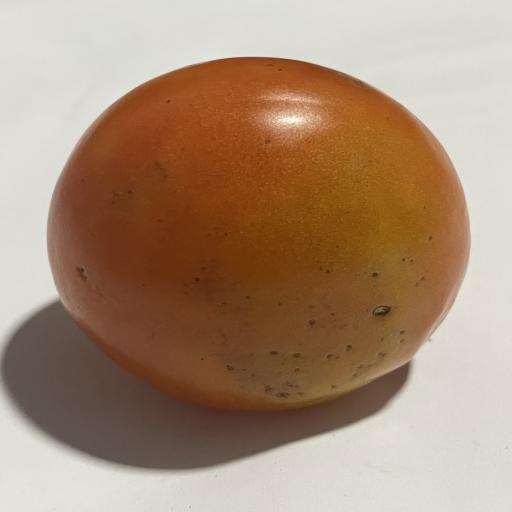unripe: (48, 57, 469, 410)
